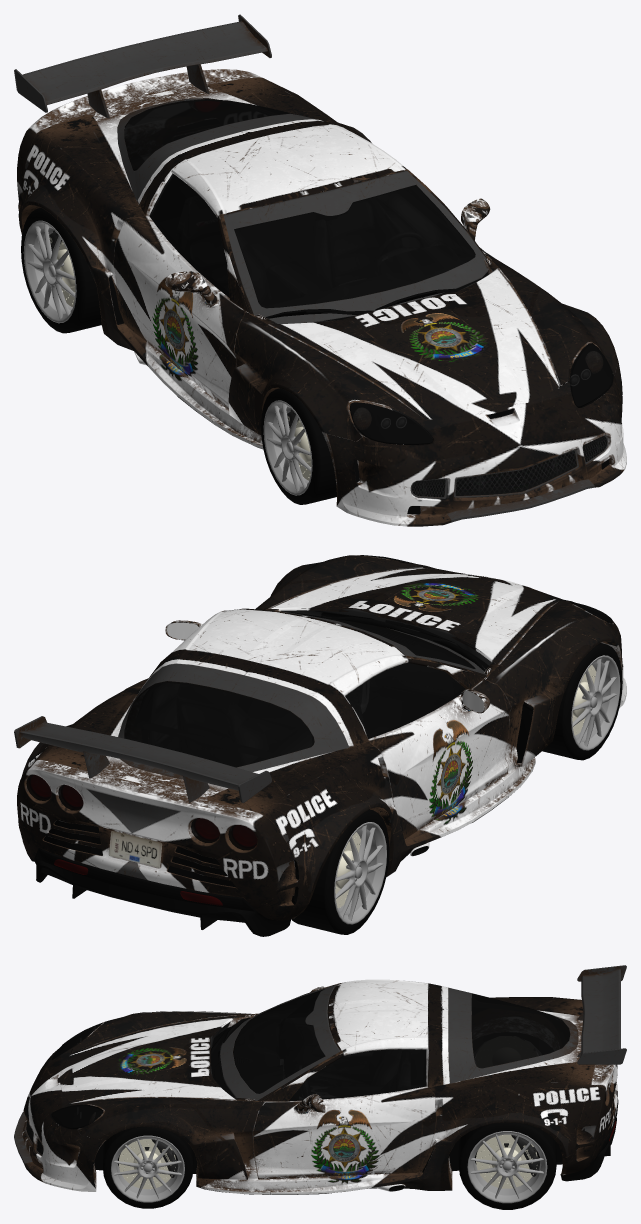
Rendered from corvette_cross.glb.
3 views of the same model, one above another, from view 1: azimuth 30°, elevation 25°; view 2: azimuth 150°, elevation 25°; view 3: azimuth 270°, elevation 25° (orthographic). The views are drawn at different scales.
Parts seen in each view (by area): view 1: KITW04_BODY_A.017, KIT00_REAR_WINDOW_A, KIT00_FRONT_WINDOW_A, OZ_STYLE01_21_25_A.001, OZ_STYLE01_21_25_A.003, KIT00_LEFT_HEADLIGHT_GLASS_A, KITW04_BODY_A.002, KITW04_BODY_A, KIT00_LEFT_SIDE_MIRROR_A, KIT00_FRONT_TIRE_A.001, KITW04_BODY_A.018, KITW04_BODY_A.013; view 2: KITW04_BODY_A.017, KIT00_REAR_WINDOW_A, KIT00_FRONT_WINDOW_A, OZ_STYLE01_21_25_A.001, KITW04_BODY_A.004, OZ_STYLE01_21_25_A.003, KIT00_LEFT_HEADLIGHT_GLASS_A, KITW04_BODY_A.001, Plane, KITW04_BODY_A.018, KITW04_BODY_A, KIT00_FRONT_TIRE_A.001 (+3 smaller); view 3: KITW04_BODY_A.017, KIT00_REAR_WINDOW_A, KIT00_FRONT_WINDOW_A, OZ_STYLE01_21_25_A.001, OZ_STYLE01_21_25_A.003, KIT00_FRONT_TIRE_A.001, KITW04_BODY_A, KIT00_LEFT_HEADLIGHT_GLASS_A, KITW04_BODY_A.018, KITW04_BODY_A.004, KITW04_BODY_A.009, KIT00_LEFT_SIDE_MIRROR_A.
Part boxes in pixels (x1=…): KITW04_BODY_A.017: x1=17, y1=69, x2=626, y2=526; KIT00_REAR_WINDOW_A: x1=124, y1=99, x2=475, y2=308; KIT00_FRONT_WINDOW_A: x1=14, y1=14, x2=608, y2=522; OZ_STYLE01_21_25_A.001: x1=23, y1=220, x2=312, y2=495; OZ_STYLE01_21_25_A.003: x1=21, y1=208, x2=622, y2=504; KIT00_LEFT_HEADLIGHT_GLASS_A: x1=349, y1=344, x2=612, y2=444; KITW04_BODY_A.002: x1=412, y1=436, x2=606, y2=497; KITW04_BODY_A: x1=148, y1=169, x2=498, y2=324; KIT00_LEFT_SIDE_MIRROR_A: x1=165, y1=198, x2=490, y2=307; KIT00_FRONT_TIRE_A.001: x1=49, y1=230, x2=311, y2=480; KITW04_BODY_A.018: x1=265, y1=272, x2=488, y2=321; KITW04_BODY_A.013: x1=109, y1=276, x2=609, y2=514; KITW04_BODY_A.017: x1=17, y1=555, x2=626, y2=920; KIT00_REAR_WINDOW_A: x1=124, y1=611, x2=475, y2=767; KIT00_FRONT_WINDOW_A: x1=14, y1=608, x2=486, y2=802; OZ_STYLE01_21_25_A.001: x1=334, y1=655, x2=620, y2=924; KITW04_BODY_A.004: x1=32, y1=848, x2=290, y2=936; OZ_STYLE01_21_25_A.003: x1=291, y1=643, x2=622, y2=934; KIT00_LEFT_HEADLIGHT_GLASS_A: x1=26, y1=555, x2=612, y2=850; KITW04_BODY_A.001: x1=43, y1=820, x2=235, y2=886; Plane: x1=109, y1=831, x2=162, y2=867; KITW04_BODY_A.018: x1=315, y1=611, x2=488, y2=671; KITW04_BODY_A: x1=221, y1=608, x2=499, y2=695; KIT00_FRONT_TIRE_A.001: x1=335, y1=665, x2=596, y2=908; KITW04_BODY_A.017: x1=22, y1=979, x2=617, y2=1194; KIT00_REAR_WINDOW_A: x1=233, y1=989, x2=570, y2=1101; KIT00_FRONT_WINDOW_A: x1=14, y1=965, x2=626, y2=1164; OZ_STYLE01_21_25_A.001: x1=111, y1=1131, x2=547, y2=1203; OZ_STYLE01_21_25_A.003: x1=103, y1=1122, x2=556, y2=1209; KIT00_FRONT_TIRE_A.001: x1=119, y1=1134, x2=540, y2=1189; KITW04_BODY_A: x1=228, y1=983, x2=427, y2=1102; KIT00_LEFT_HEADLIGHT_GLASS_A: x1=51, y1=1023, x2=610, y2=1129; KITW04_BODY_A.018: x1=211, y1=1017, x2=250, y2=1097; KITW04_BODY_A.004: x1=560, y1=1098, x2=618, y2=1181; KITW04_BODY_A.009: x1=196, y1=1138, x2=562, y2=1194; KIT00_LEFT_SIDE_MIRROR_A: x1=293, y1=986, x2=325, y2=1114.
Bounding box in the file's own units: 1.9 × 1.11 × 4.15.
25 materials, 9 textured.
